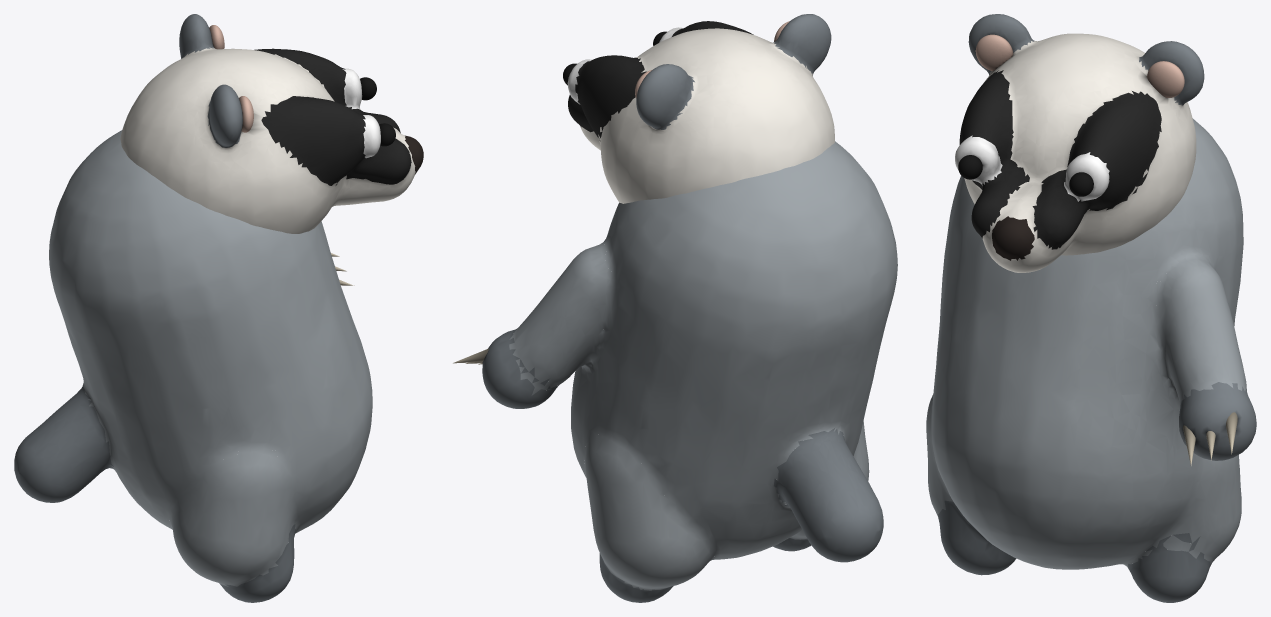
Rendered from jag-haller-inte-riktigt-med.glb.
3 renders of one model, left to right at view 1: azimuth 30°, elevation 25°; view 2: azimuth 150°, elevation 25°; view 3: azimuth 270°, elevation 25°, orthographic. The views are drawn at different scales.
Parts seen in each view (by area): view 1: texugo__r0, cabeca__r0; view 2: texugo__r0, cabeca__r0; view 3: texugo__r0, cabeca__r0, cabeca__r2, cabeca__r4, cabeca__r1, cabeca__r3.
Part boxes in pixels (bbox=[...]): texugo__r0: bbox=[14, 130, 372, 602]; cabeca__r0: bbox=[120, 14, 423, 233]; texugo__r0: bbox=[482, 141, 897, 602]; cabeca__r0: bbox=[567, 14, 834, 203]; texugo__r0: bbox=[926, 118, 1256, 602]; cabeca__r0: bbox=[955, 14, 1204, 272]; cabeca__r2: bbox=[1147, 61, 1184, 97]; cabeca__r4: bbox=[975, 34, 1013, 71]; cabeca__r1: bbox=[1069, 172, 1093, 196]; cabeca__r3: bbox=[958, 155, 982, 179].
Size of the model in its own units: 1.11 by 1.49 by 0.8177.
